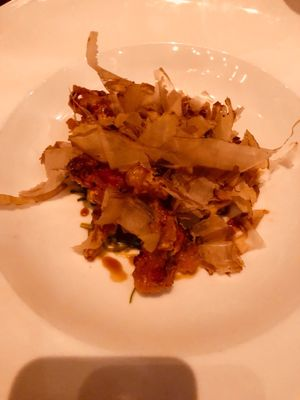soup: (58, 65, 283, 297)
